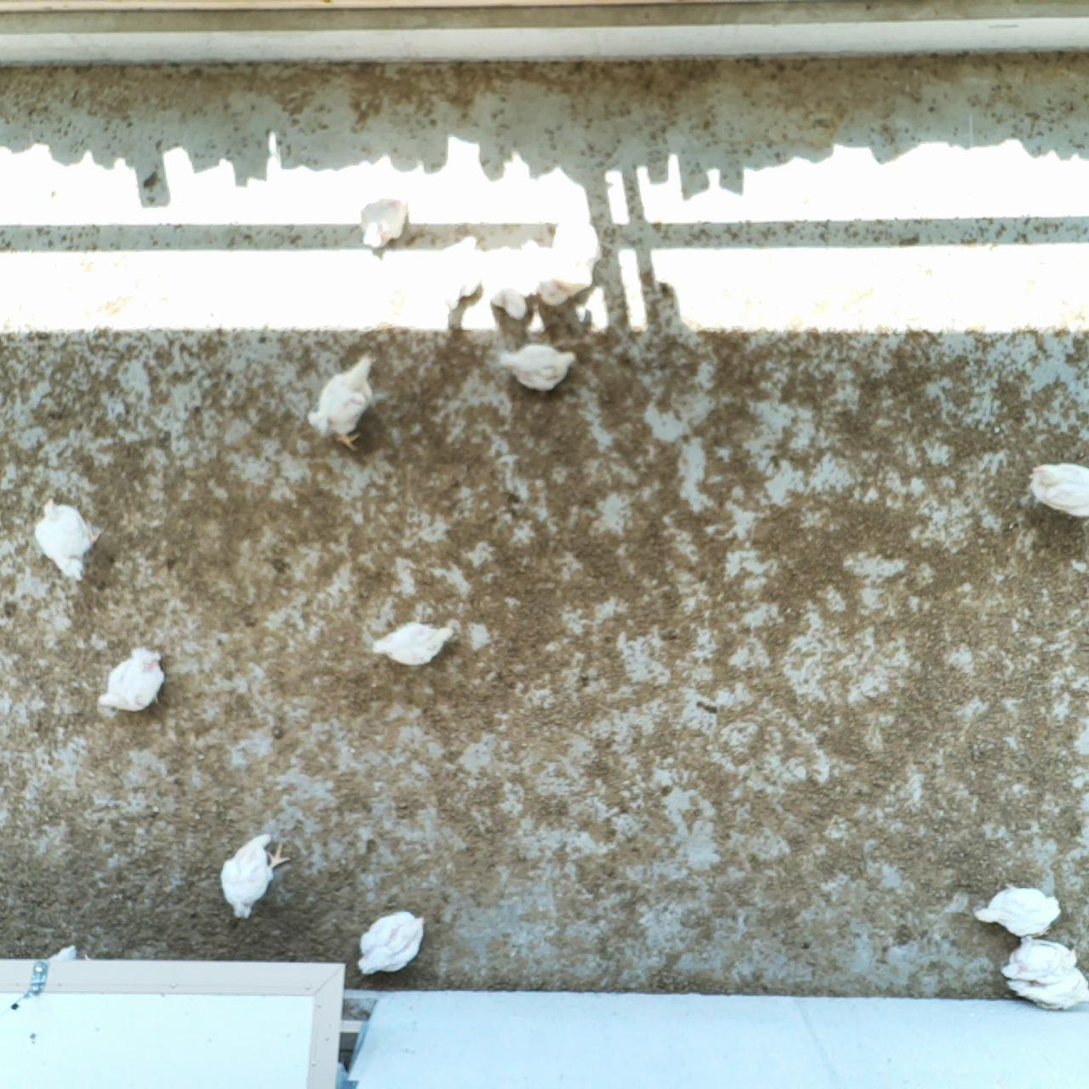chicken: (297, 353, 383, 460), (217, 825, 293, 922), (33, 495, 106, 588), (352, 166, 418, 257), (355, 908, 430, 983), (96, 642, 171, 717), (971, 877, 1062, 938), (497, 335, 581, 401), (484, 226, 536, 327), (543, 211, 603, 296), (370, 614, 459, 669), (998, 930, 1082, 986), (432, 231, 486, 314), (1024, 458, 1089, 523), (1002, 965, 1089, 1013), (319, 322, 320, 322)
